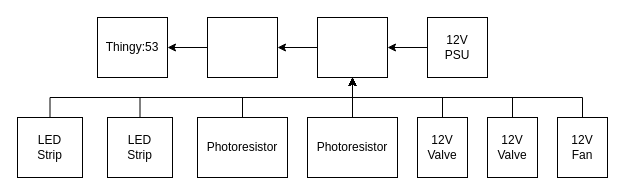
Image size: 625x195. Some labels were removed from this diagram. The box of each missing label's shape, as (x1, y1, x2, y2) in pixels:
Control Hat: (316, 16, 388, 78)
Debug Hard: (206, 16, 278, 78)
